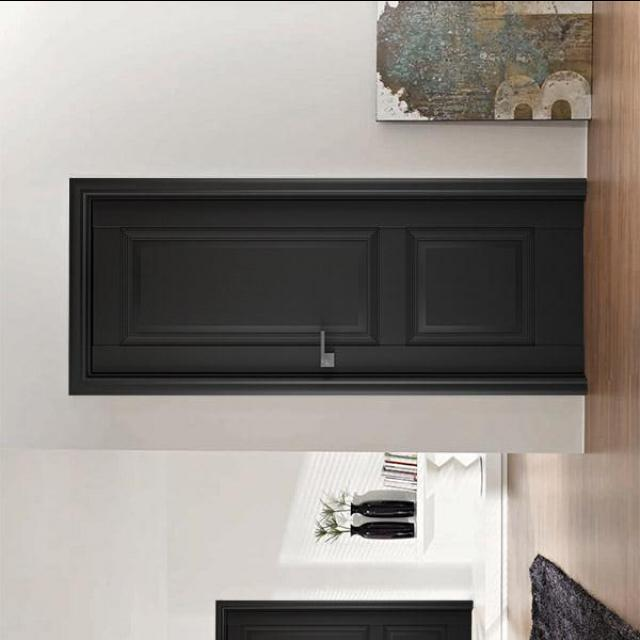close: (72, 177, 586, 394)
